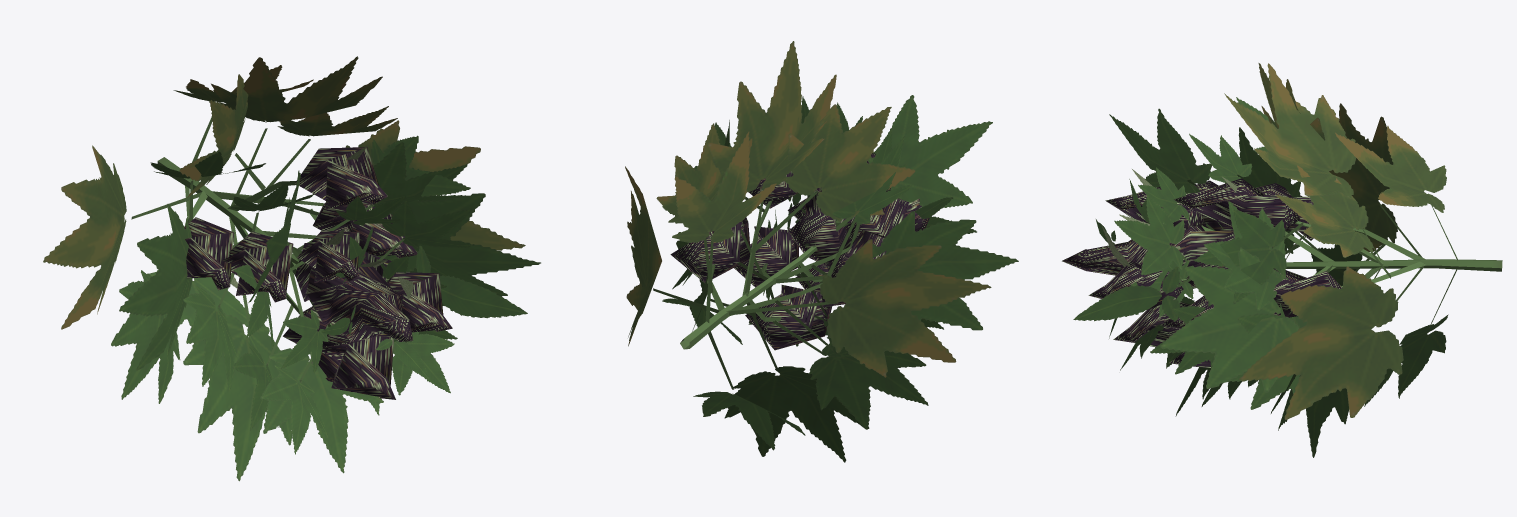
The model's file is p_dark_kush_ripe_c0_cards.obj.
The picture shows the model from 3 angles, left to right: view 1: azimuth 30°, elevation 25°; view 2: azimuth 150°, elevation 25°; view 3: azimuth 270°, elevation 25°; orthographic projection. The views are drawn at different scales.
Bounding box in the file's own units: 1.55 × 1.57 × 1.35.
1 material, 1 textured.
